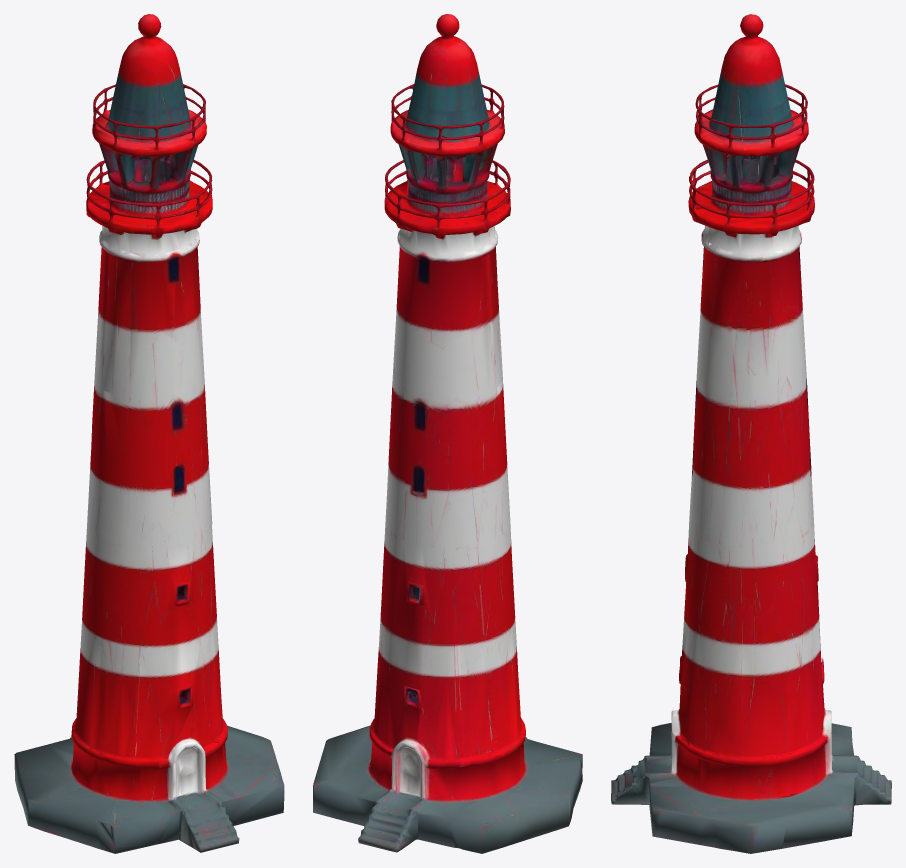
File: lighthouse.glb
The picture shows the model from 3 angles, left to right: view 1: azimuth 30°, elevation 25°; view 2: azimuth 150°, elevation 25°; view 3: azimuth 270°, elevation 25°; orthographic projection.
Bounding box in the file's own units: 0.6203 × 1.91 × 0.6237.
1 material, 1 textured.
